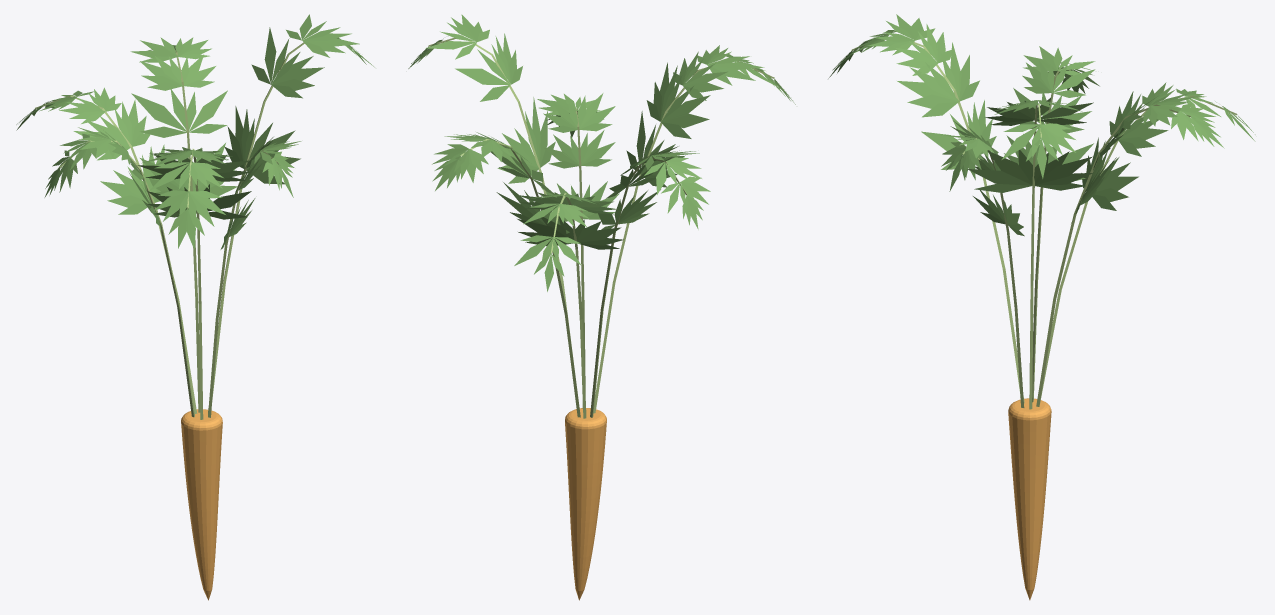
File: carrot_v03.glb
The picture shows the model from 3 angles, left to right: view 1: azimuth 30°, elevation 25°; view 2: azimuth 150°, elevation 25°; view 3: azimuth 270°, elevation 25°; orthographic projection. The views are drawn at different scales.
Parts seen in each view (by area): view 1: leaves, root, petioles; view 2: leaves, root, petioles; view 3: leaves, root, petioles.
Part boxes in pixels (x1,y1,x2,y2): leaves: (16,14,374,249); root: (181,409,222,600); petioles: (35,42,304,419); leaves: (408,14,795,291); root: (565,408,606,600); petioles: (428,35,774,418); leaves: (828,14,1255,236); root: (1008,398,1051,600); petioles: (851,32,1237,409).
Bounding box in the file's own units: 0.2788 × 0.47 × 0.3308.
